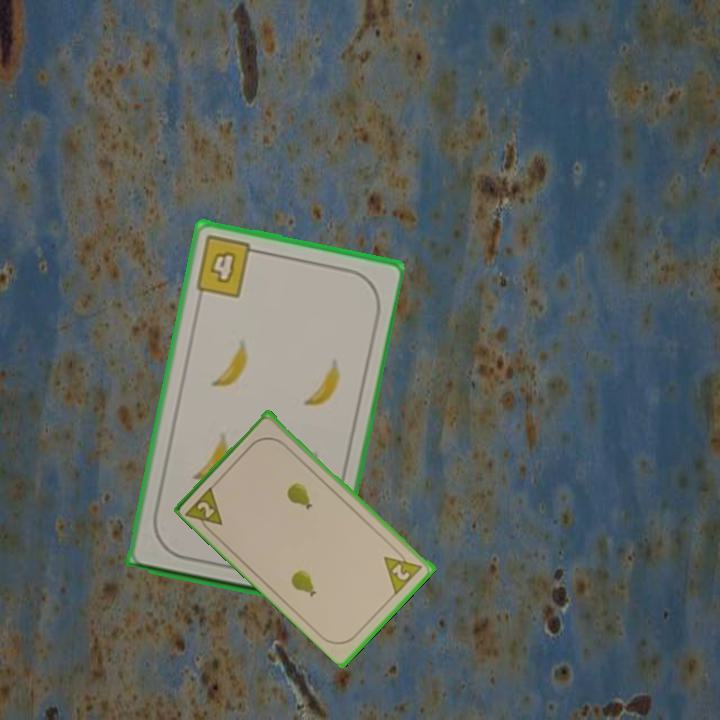2p: (380, 545, 425, 596), (193, 498, 218, 521)
4b: (191, 232, 264, 301)
